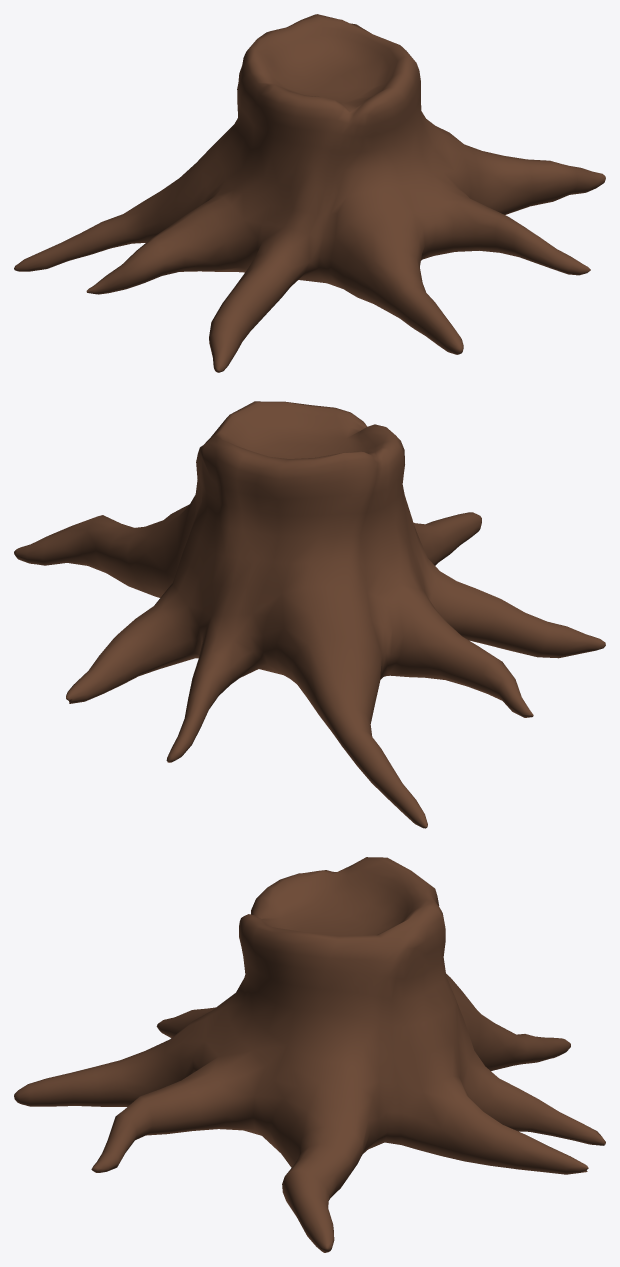
File: SM_TreeStump_low.fbx
3 views of the same model, one above another, from view 1: azimuth 30°, elevation 25°; view 2: azimuth 150°, elevation 25°; view 3: azimuth 270°, elevation 25° (orthographic). The views are drawn at different scales.
Visible parts, largest first — view 1: SM_TreeStump_low; view 2: SM_TreeStump_low; view 3: SM_TreeStump_low.
Boxes of the visible parts, left/top/right/bottom form: SM_TreeStump_low: left=14, top=14, right=605, bottom=372; SM_TreeStump_low: left=14, top=401, right=605, bottom=828; SM_TreeStump_low: left=14, top=857, right=605, bottom=1252.
Bounding box in the file's own units: 3808 × 3517 × 1803.
